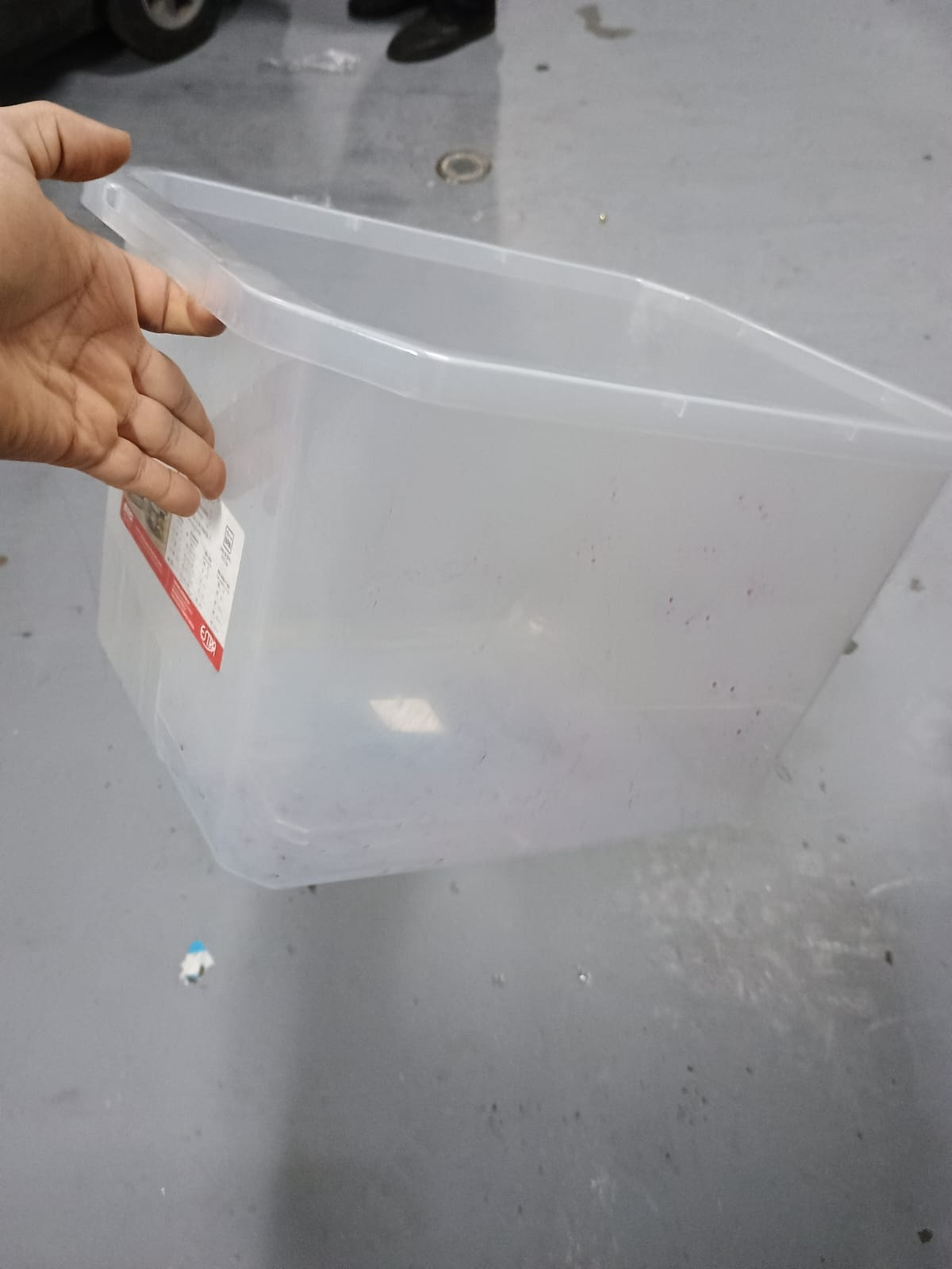Plastico: (76, 161, 952, 890)
